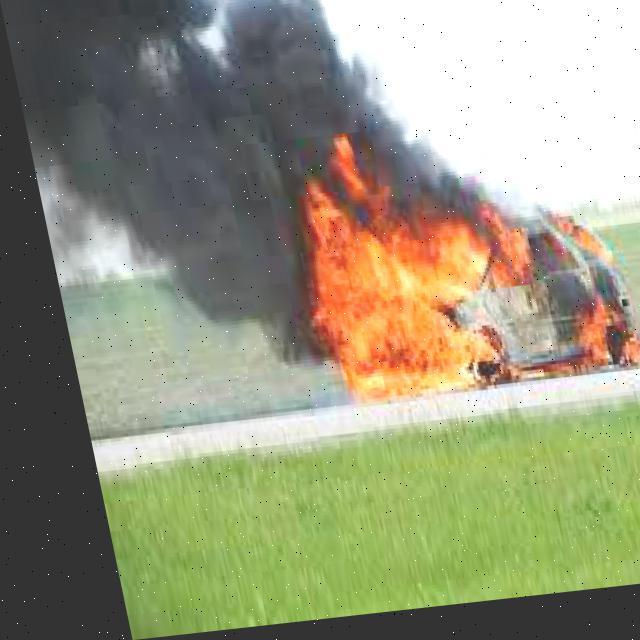Fire: (265, 119, 635, 414)
